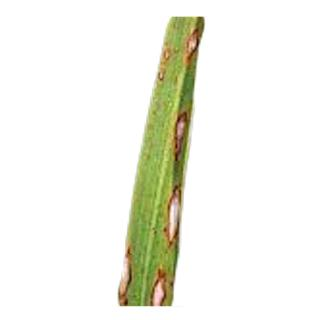Blast: (114, 236, 145, 306), (160, 177, 187, 255), (167, 101, 195, 169), (179, 18, 205, 71), (146, 261, 174, 307), (154, 40, 174, 90)
